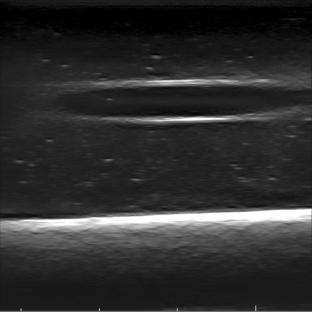vessel: (60, 76, 311, 125)
